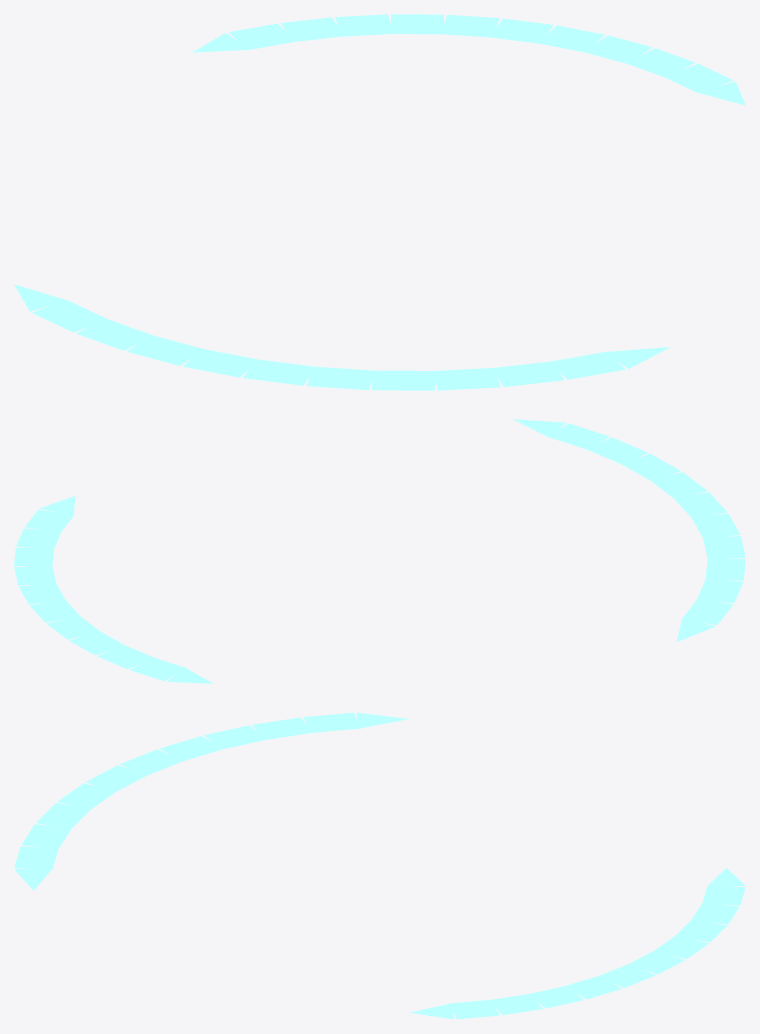
File: proc_focus.glb
3 views of the same model, one above another, from view 1: azimuth 30°, elevation 25°; view 2: azimuth 150°, elevation 25°; view 3: azimuth 270°, elevation 25° (orthographic). The views are drawn at different scales.
Visible parts, largest first — view 1: proc_focus sparse contact artwork; view 2: proc_focus sparse contact artwork; view 3: proc_focus sparse contact artwork.
Boxes of the visible parts, left/top/right/bottom form: proc_focus sparse contact artwork: left=14, top=14, right=745, bottom=390; proc_focus sparse contact artwork: left=14, top=419, right=745, bottom=683; proc_focus sparse contact artwork: left=14, top=712, right=745, bottom=1019.
Bounding box in the file's own units: 0.983 × 0 × 0.9904.
